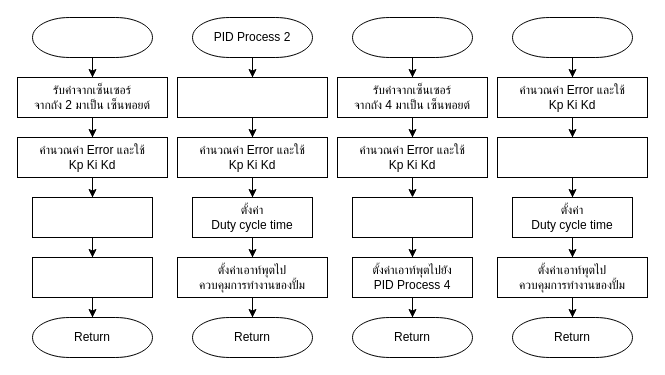
Image size: 665x375. Some labels were removed from this diagram. Each missing label, with the centre of its shape:
"PID Process 1" goes at point (92, 37).
"PID Process 3" goes at point (412, 37).
"PID Process 4" goes at point (572, 37).
"กำหนดค่าเอาท์พุต MV 1" goes at point (92, 217).
"กำหนดค่าเอาท์พุต MV 3" goes at point (412, 217).
"รับค่าจากเซ็นเซอร์ จากถัง 1 มาเป็น เซ็นพอยต์" goes at point (252, 97).
"รับค่าจากเซ็นเซอร์ จากถัง 3 มาเป็น เซ็นพอยต์" goes at point (572, 157).
"ส่งค่าเอาท์พุตไปยัง PID Process 2" goes at point (92, 277).
